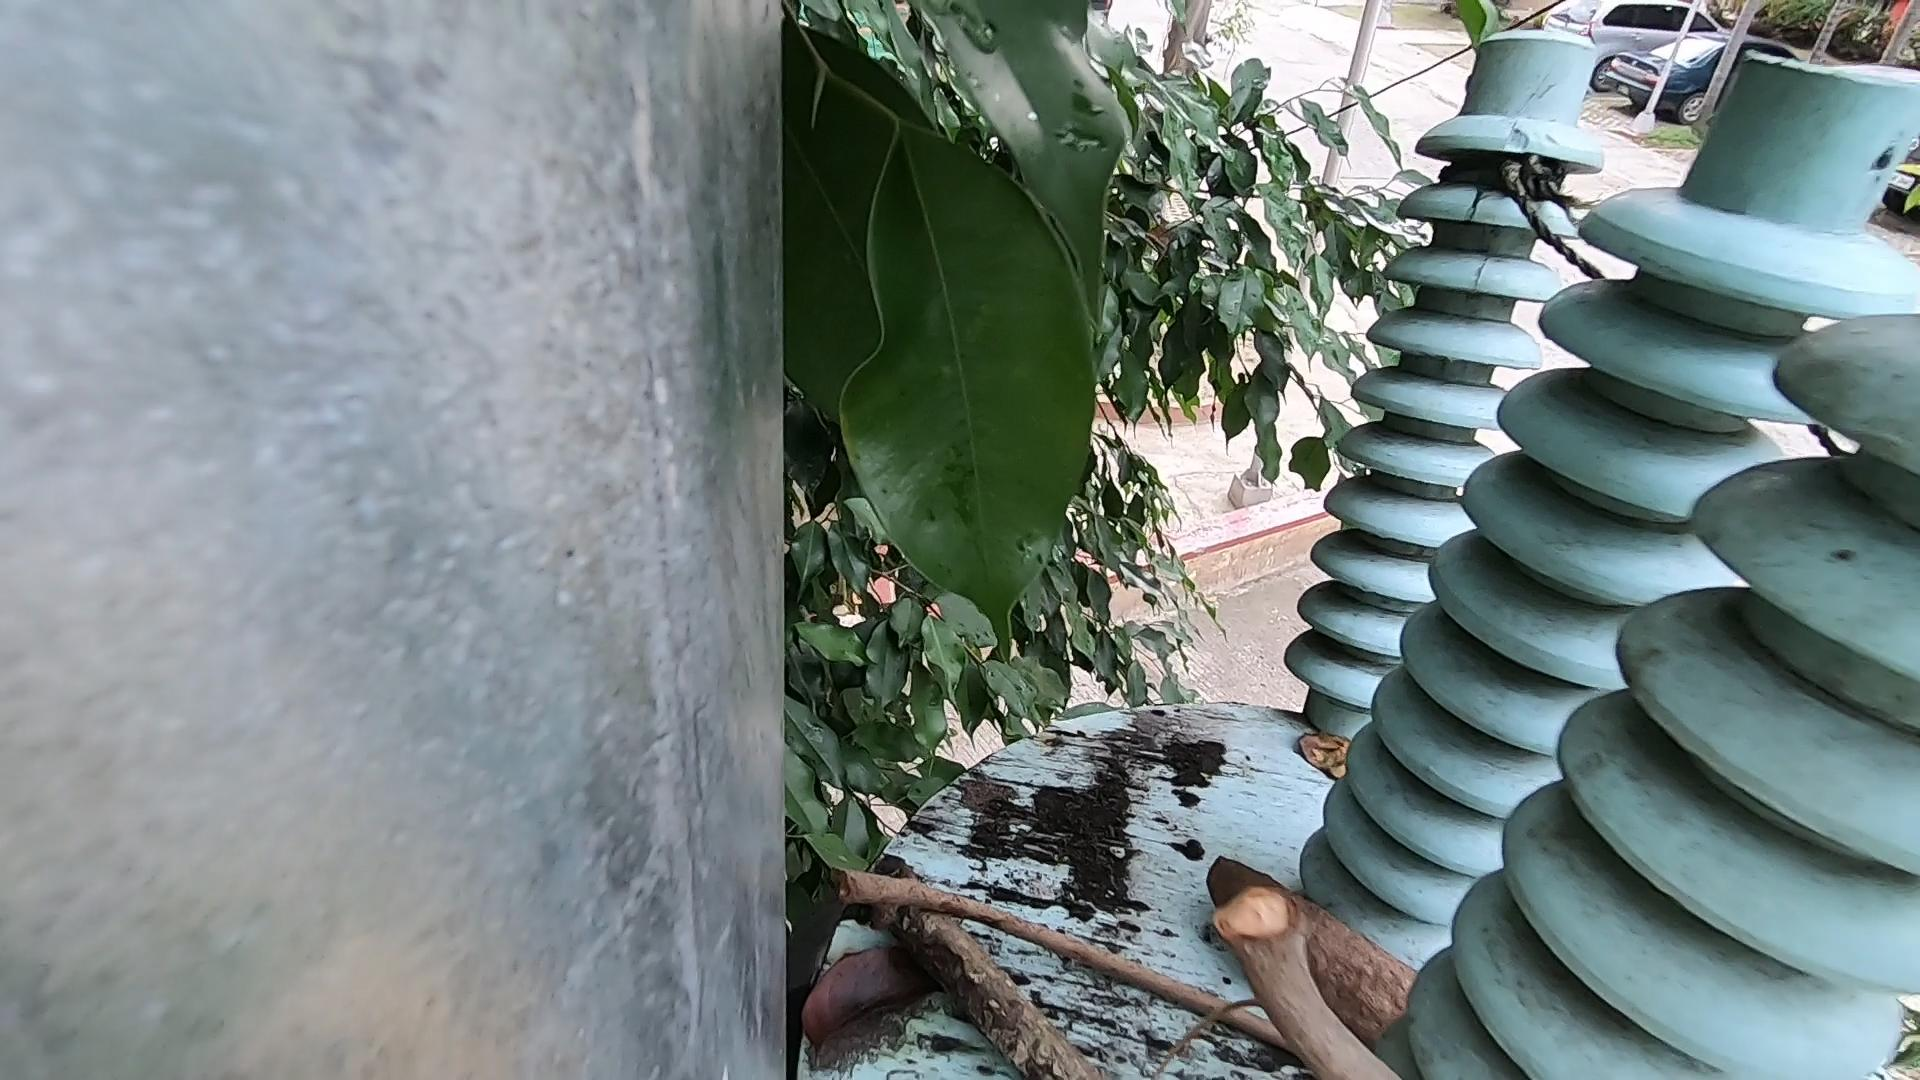branch with leaves: (891, 851, 1083, 1080)
leaf: (775, 886, 943, 1063), (1302, 705, 1383, 808)
mahogany fruit: (1199, 847, 1410, 1026)
tree branch: (833, 849, 1317, 1063), (1224, 861, 1396, 1080)
